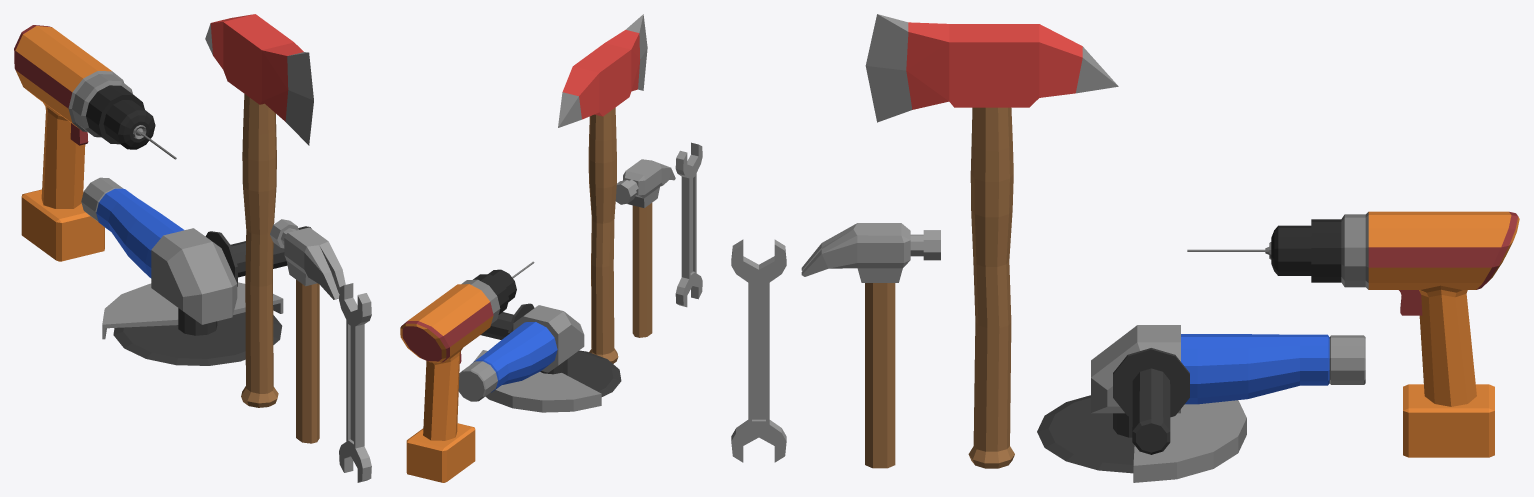
Rendered from herramientasYhacha.fbx.
The picture shows the model from 3 angles, left to right: view 1: azimuth 30°, elevation 25°; view 2: azimuth 150°, elevation 25°; view 3: azimuth 270°, elevation 25°; orthographic projection. The views are drawn at different scales.
Visible parts, largest first — view 1: cortadorademetal, Cubo, hacha, martillo, Llave; view 2: cortadorademetal, hacha, Cubo, martillo, Llave; view 3: hacha, cortadorademetal, Cubo, martillo, Llave.
Boxes of the visible parts, box(x1,y1,x2,y2) form: cortadorademetal: box(81, 177, 311, 365); Cubo: box(14, 25, 176, 261); hacha: box(205, 14, 313, 407); martillo: box(270, 219, 345, 443); Llave: box(339, 283, 371, 482); cortadorademetal: box(458, 303, 621, 412); hacha: box(558, 14, 647, 363); Cubo: box(400, 261, 534, 482); martillo: box(615, 159, 675, 337); Llave: box(675, 142, 702, 307); hacha: box(865, 14, 1118, 468); cortadorademetal: box(1037, 325, 1365, 482); Cubo: box(1187, 211, 1519, 457); martillo: box(801, 223, 940, 468); Llave: box(731, 239, 786, 462).
Bounding box in the file's own units: 1776 × 3292 × 5233.
